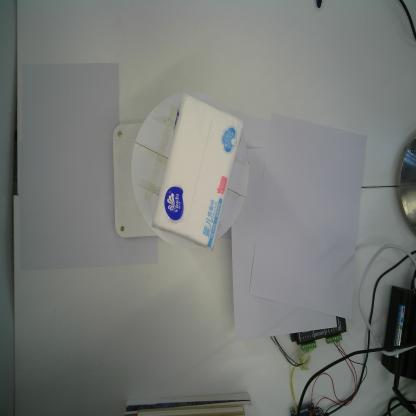Tissue: (150, 92, 244, 251)
